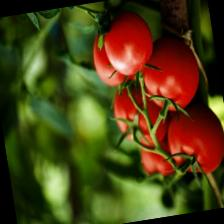tomato: (134, 31, 204, 117), (160, 98, 224, 180), (98, 7, 158, 80)
